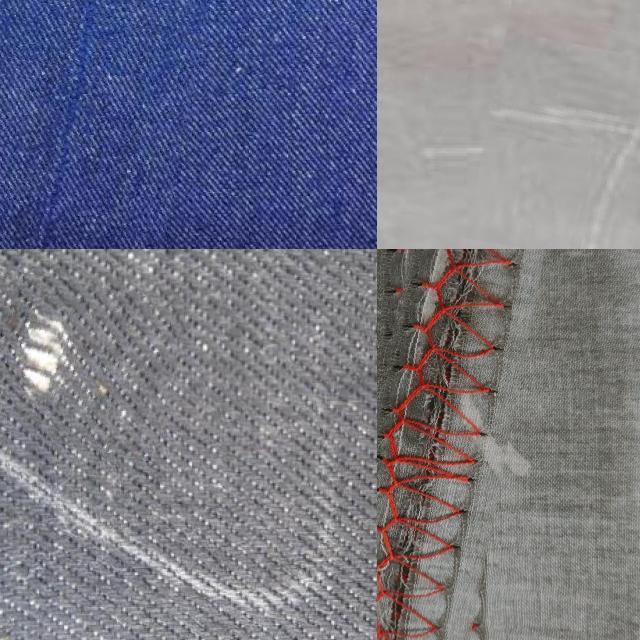Thread_out: (377, 249, 541, 640)
stains: (477, 0, 640, 249), (0, 276, 179, 453)
